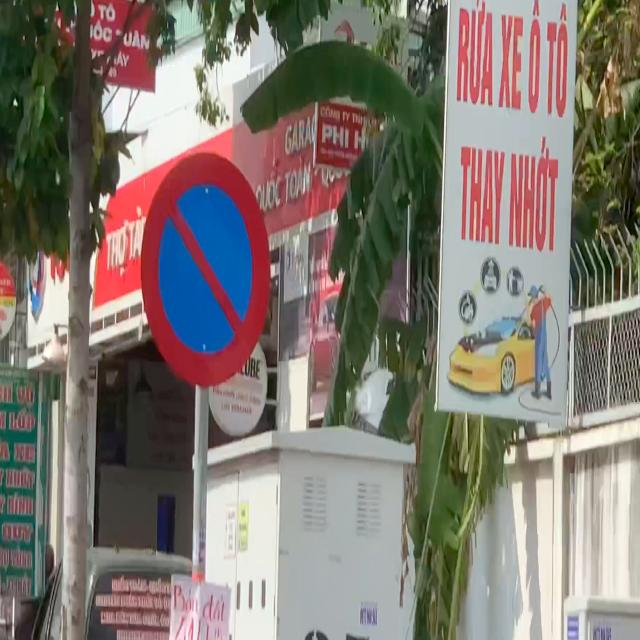Cam do: (140, 150, 272, 391)
